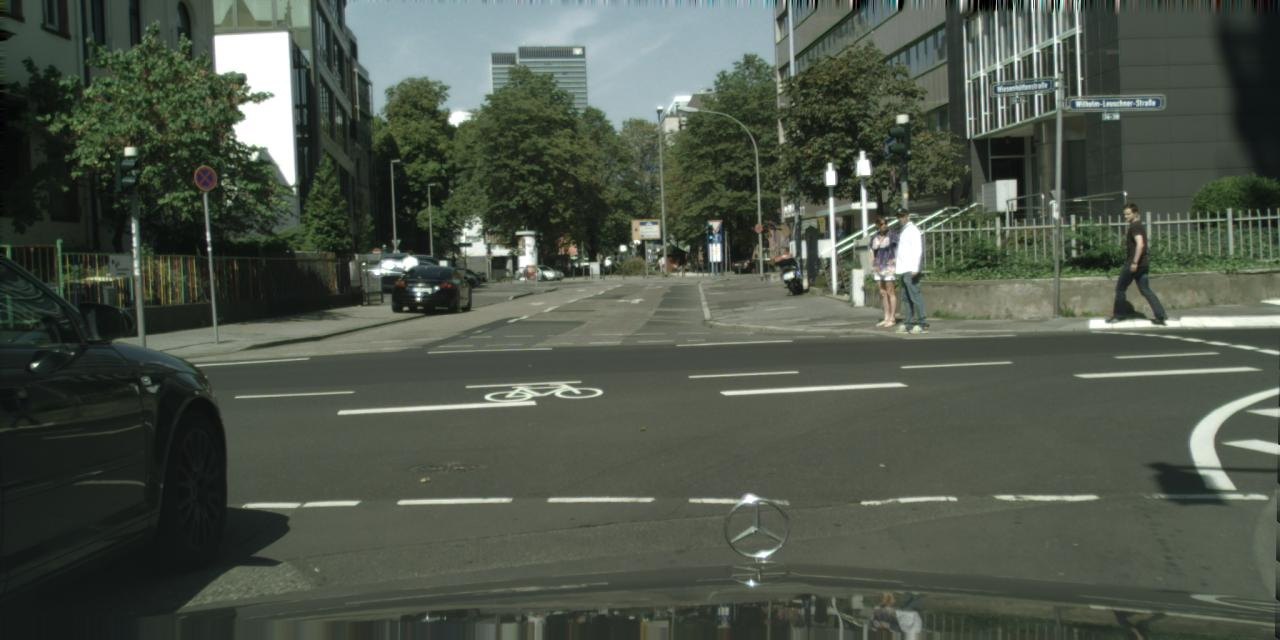ped: (882, 208, 933, 334), (1108, 202, 1157, 322), (861, 215, 906, 327), (401, 250, 418, 296), (609, 249, 619, 273), (660, 254, 666, 270), (658, 256, 662, 271)
